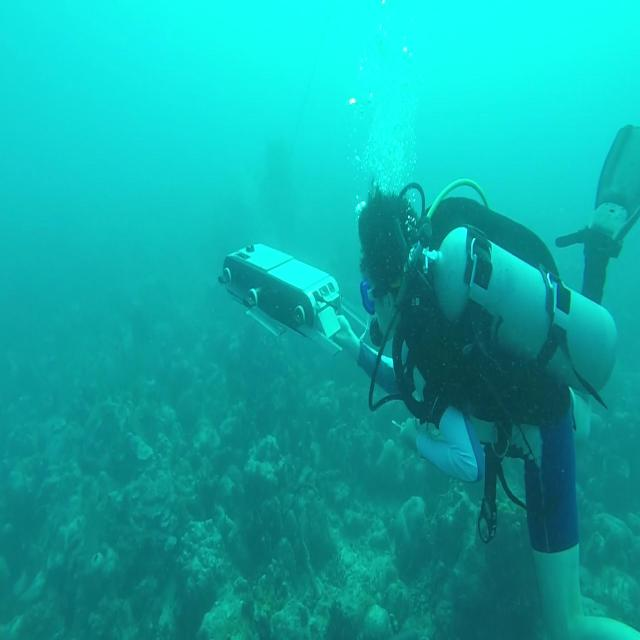human: (335, 121, 640, 640)
